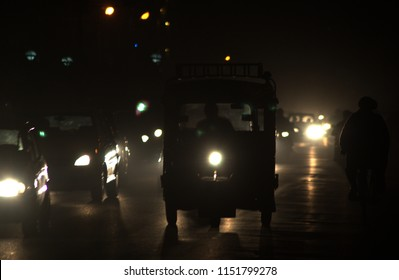car: (34, 116, 120, 207), (1, 122, 51, 238), (290, 112, 320, 145)
rickshaw: (161, 74, 277, 234)
